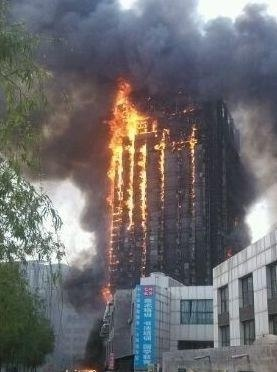fire: (107, 79, 200, 232)
